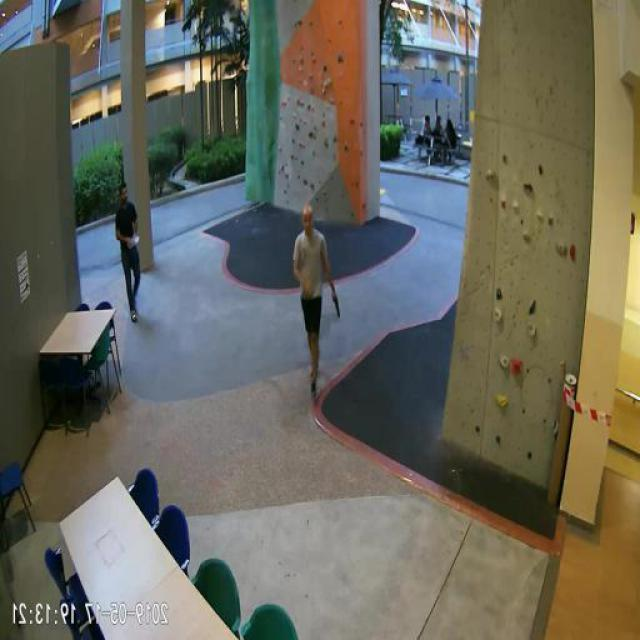weapon: (332, 293, 342, 319)
